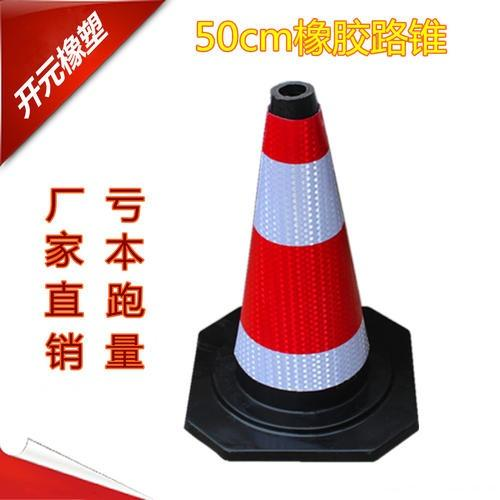cone_barrel: (207, 85, 389, 430)
